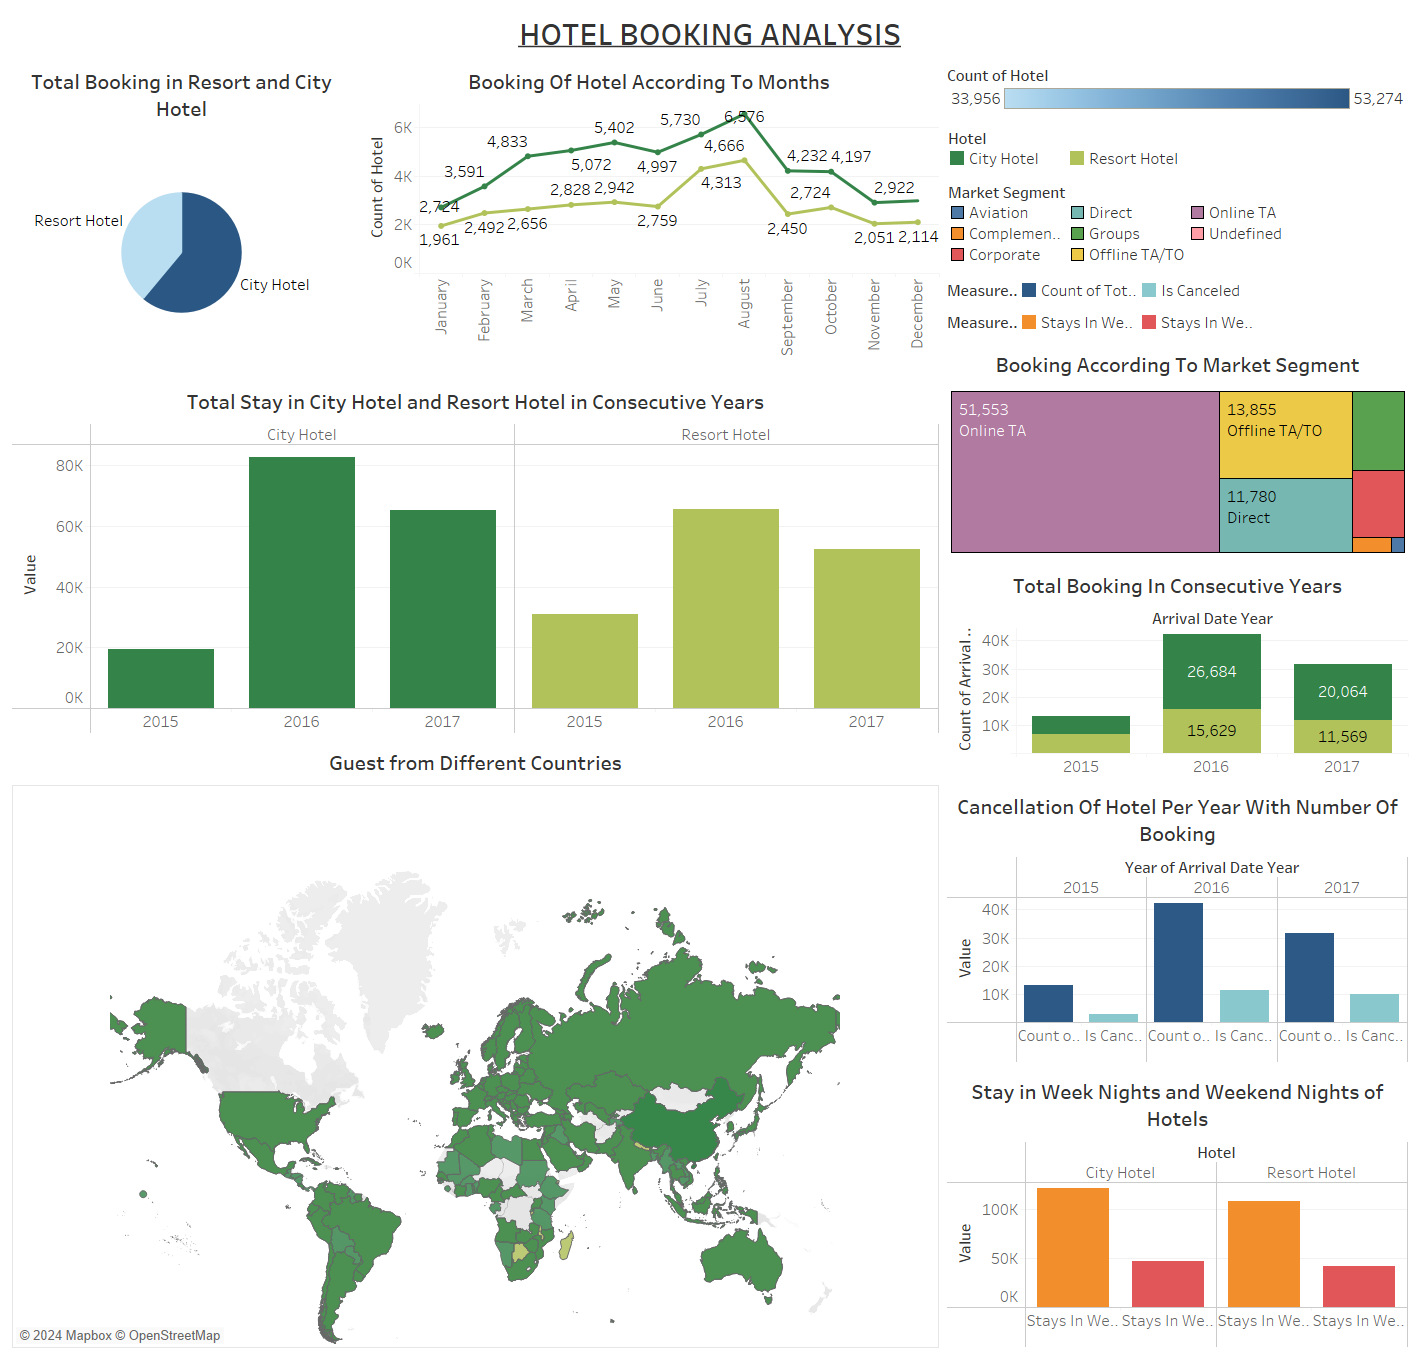

Layout of this report page (visuals, bound fields, positions):
{"tool":"tableau","page":{"name":"Dashboard_for_hotel_booking_analysis","canvas":[1420,1360],"ordinal":0},"visuals":[{"type":"title","box":[8,8,1404,49]},{"type":"worksheet","title":"Sheet 1","mark":"Pie","box":[8,57,347,319.9]},{"type":"worksheet","title":"Sheet 2","mark":"Line","rows":["hotel"],"cols":["arrival_date_month"],"box":[355,57,588.1,319.9]},{"type":"legend","title":"Sheet 1","param":"[federated.1aty0e708i9k3q1echlff0i8m3rf].[cnt:hotel:qk]","box":[943,57,469,65]},{"type":"legend","title":"Sheet 2","param":"[federated.1aty0e708i9k3q1echlff0i8m3rf].[none:hotel:nk]","box":[943,122,469,54]},{"type":"legend","title":"Sheet 4","param":"[federated.1aty0e708i9k3q1echlff0i8m3rf].[none:market_segment:nk]","box":[943,176,469,100]},{"type":"legend","title":"Sheet 7","param":"[federated.1aty0e708i9k3q1echlff0i8m3rf].[:Measure Names]","box":[943,276,469,32]},{"type":"legend","title":"Sheet 3","param":"[federated.1aty0e708i9k3q1echlff0i8m3rf].[:Measure Names]","box":[943,308,469,32]},{"type":"worksheet","title":"Sheet 4","mark":"Automatic","box":[943,340,469,221]},{"type":"worksheet","title":"Sheet 6","mark":"Bar","cols":["hotel","arrival_date_year"],"box":[8,376.9,935,361.3]},{"type":"worksheet","title":"Sheet 5","mark":"Bar","rows":["arrival_date_year"],"cols":["arrival_date_year"],"box":[943,561,469,221]},{"type":"worksheet","title":"Sheet 8","mark":"Multipolygon","box":[8,738.2,935,613.8]},{"type":"worksheet","title":"Sheet 7","mark":"Bar","cols":["arrival_date_year"],"box":[943,782,469,285]},{"type":"worksheet","title":"Sheet 3","mark":"Automatic","cols":["hotel"],"box":[943,1067,469,285]}]}

Visuals, with their boxes in screenshot pixels (x1, y1, x2, y2), scaled from the page's 1420x1360 canvas onto the 1420x1360 screenshot:
title: [x1=8, y1=8, x2=1412, y2=57]
"Sheet 1" worksheet (Pie marks): [x1=8, y1=57, x2=355, y2=377]
"Sheet 2" worksheet (Line marks): [x1=355, y1=57, x2=943, y2=377]
"Sheet 1" legend: [x1=943, y1=57, x2=1412, y2=122]
"Sheet 2" legend: [x1=943, y1=122, x2=1412, y2=176]
"Sheet 4" legend: [x1=943, y1=176, x2=1412, y2=276]
"Sheet 7" legend: [x1=943, y1=276, x2=1412, y2=308]
"Sheet 3" legend: [x1=943, y1=308, x2=1412, y2=340]
"Sheet 4" worksheet: [x1=943, y1=340, x2=1412, y2=561]
"Sheet 6" worksheet (Bar marks): [x1=8, y1=377, x2=943, y2=738]
"Sheet 5" worksheet (Bar marks): [x1=943, y1=561, x2=1412, y2=782]
"Sheet 8" worksheet (Multipolygon marks): [x1=8, y1=738, x2=943, y2=1352]
"Sheet 7" worksheet (Bar marks): [x1=943, y1=782, x2=1412, y2=1067]
"Sheet 3" worksheet: [x1=943, y1=1067, x2=1412, y2=1352]
